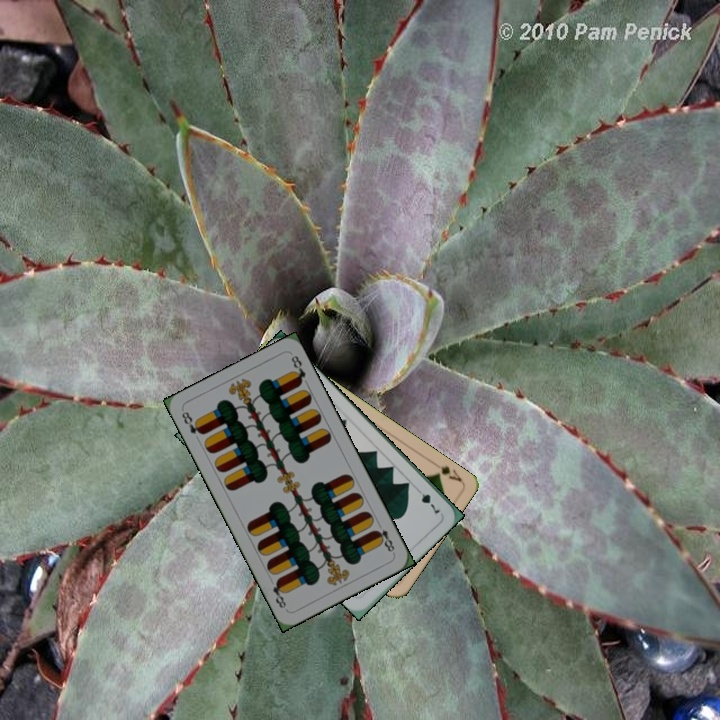E8: (371, 518, 397, 556), (177, 407, 206, 437)
G7: (411, 484, 443, 516)
GA: (427, 457, 464, 484)
